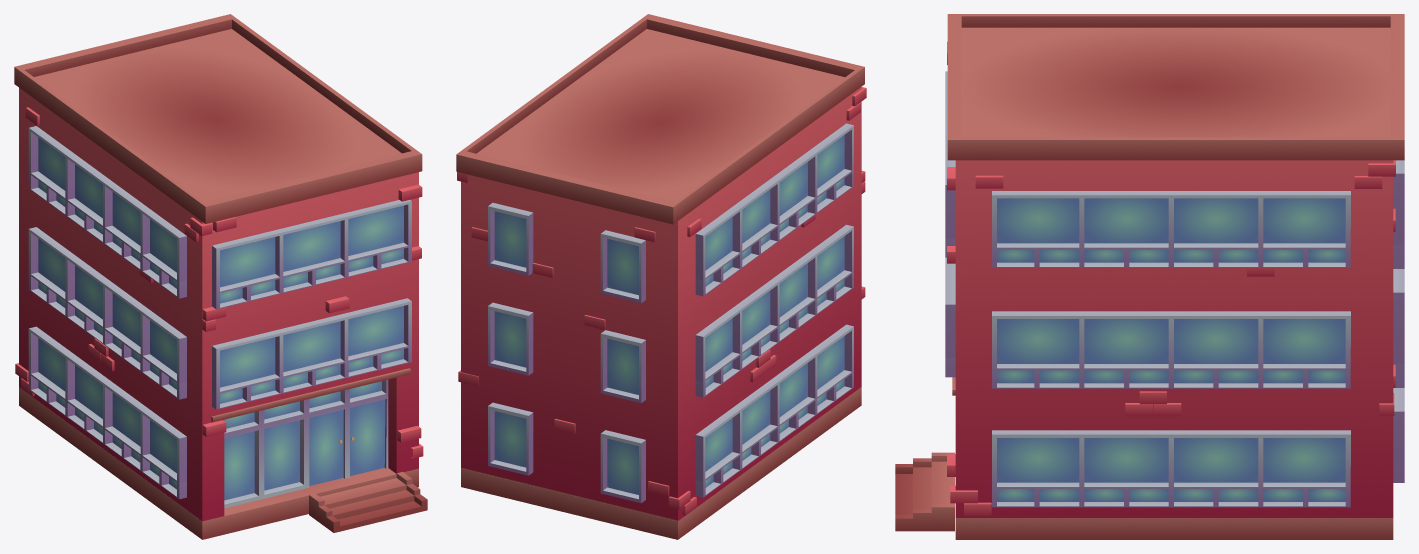
The model's file is SM_3F_R_Windowed_04.fbx.
3 renders of one model, left to right at view 1: azimuth 30°, elevation 25°; view 2: azimuth 150°, elevation 25°; view 3: azimuth 270°, elevation 25°, orthographic. The views are drawn at different scales.
Parts seen in each view (by area): view 1: SM_3F_R_Windowed_04; view 2: SM_3F_R_Windowed_04; view 3: SM_3F_R_Windowed_04.
Boxes of the visible parts, x1,y1,x2,y2 form: SM_3F_R_Windowed_04: (14, 14, 427, 539); SM_3F_R_Windowed_04: (456, 14, 866, 539); SM_3F_R_Windowed_04: (895, 14, 1404, 539).
Size of the model in its own units: 7.96 by 12.7 by 11.02.
